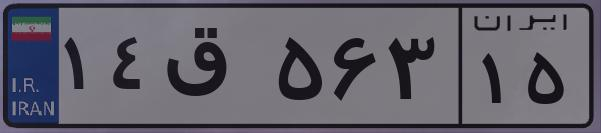1: (57, 26, 110, 100), (475, 38, 525, 113)
3: (385, 28, 445, 110)
4: (110, 28, 158, 98)
5: (270, 28, 330, 110), (525, 38, 570, 115)
6: (330, 28, 385, 110)
ق: (158, 20, 270, 120)
